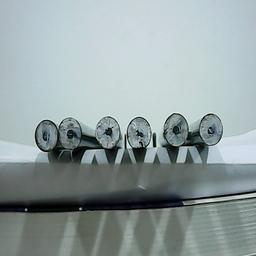pen: (162, 111, 190, 147), (126, 114, 152, 150), (197, 111, 223, 146), (58, 115, 83, 150), (33, 119, 59, 152), (94, 115, 120, 148)
